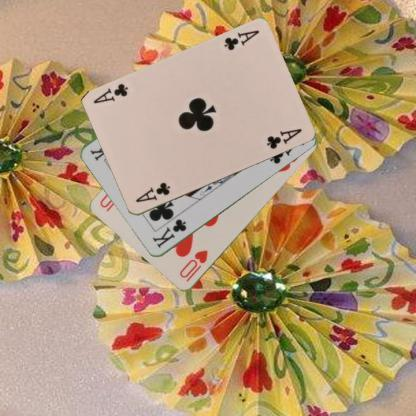10h: (176, 248, 210, 283)
Ac: (132, 180, 172, 204), (220, 28, 260, 52)
Kc: (150, 216, 188, 250)
